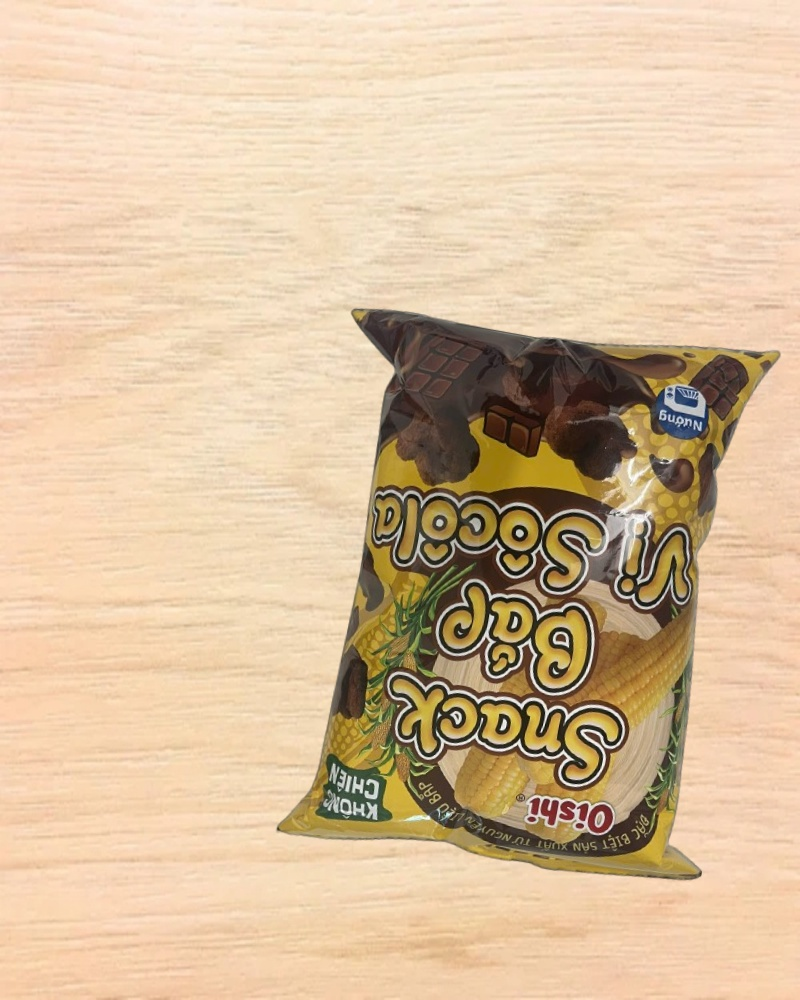Snack socola: (263, 281, 793, 905)
